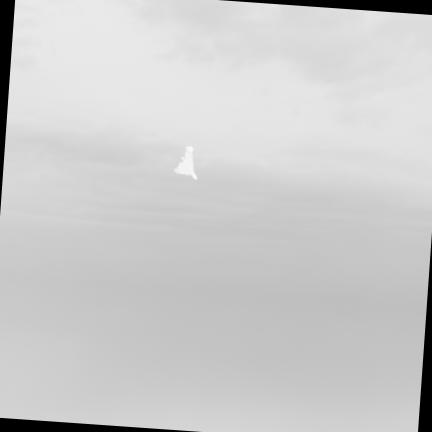Shahed: (174, 146, 196, 179)
